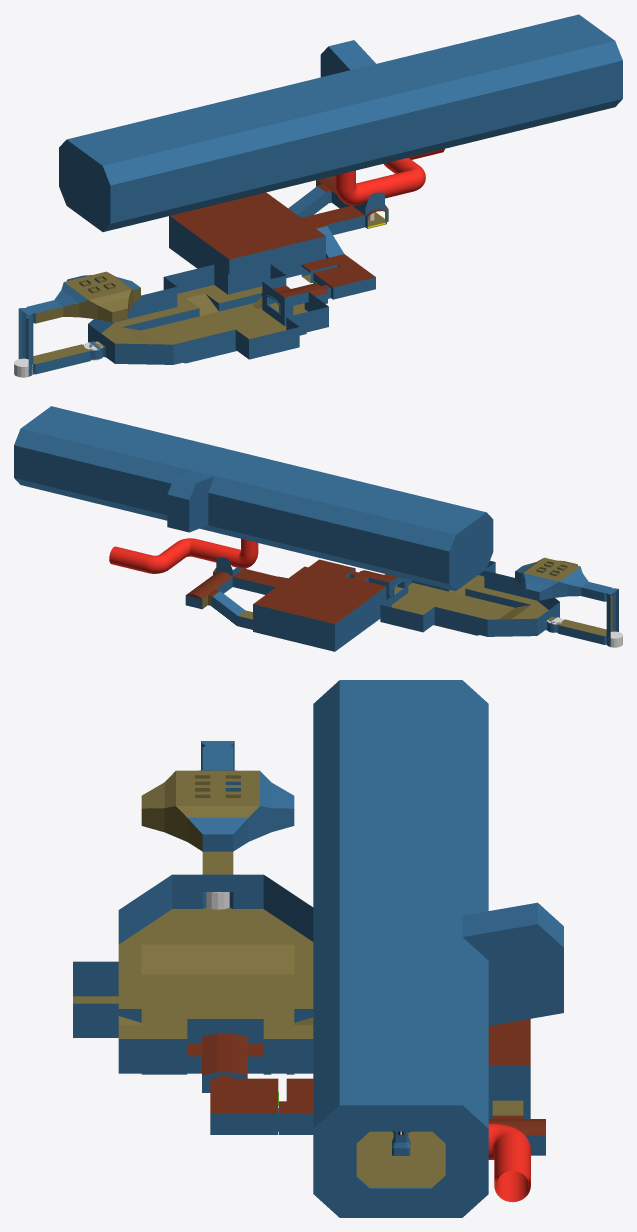
File: DemoArenaProt_01.fbx
3 renders of one model, top to bottom at view 1: azimuth 30°, elevation 25°; view 2: azimuth 150°, elevation 25°; view 3: azimuth 270°, elevation 25°, orthographic. The views are drawn at different scales.
Visible parts, largest first — view 1: PrisonHoler(ShadowCasterForEngine), FirstArena, Arena, ElevatorUpSection, EscapePipe, BottomTunel, SecurityRoom, ElevatorDownSection, LadderDown.001; view 2: PrisonHoler(ShadowCasterForEngine), FirstArena, Arena, ElevatorUpSection, EscapePipe, BottomTunel, ElevatorDownSection, LadderDown.001, SecurityRoom; view 3: PrisonHoler(ShadowCasterForEngine), FirstArena, ElevatorUpSection, SecurityRoom, PrisonBlock, Arena, EscapePipe, BottomTunel, ElevatorDownSection.
Boxes of the visible parts, bbox=[...] form: PrisonHoler(ShadowCasterForEngine): bbox=[59, 14, 622, 231]; FirstArena: bbox=[88, 264, 328, 364]; Arena: bbox=[169, 192, 325, 277]; ElevatorUpSection: bbox=[18, 271, 140, 345]; EscapePipe: bbox=[335, 149, 444, 205]; BottomTunel: bbox=[302, 175, 388, 234]; SecurityRoom: bbox=[301, 254, 375, 299]; ElevatorDownSection: bbox=[18, 338, 98, 376]; LadderDown.001: bbox=[288, 185, 327, 217]; PrisonHoler(ShadowCasterForEngine): bbox=[14, 406, 493, 590]; FirstArena: bbox=[353, 560, 559, 636]; Arena: bbox=[237, 566, 386, 651]; ElevatorUpSection: bbox=[515, 557, 618, 620]; EscapePipe: bbox=[109, 538, 258, 573]; BottomTunel: bbox=[185, 557, 286, 609]; ElevatorDownSection: bbox=[551, 614, 618, 646]; LadderDown.001: bbox=[211, 590, 244, 625]; SecurityRoom: bbox=[308, 559, 358, 578]; PrisonHoler(ShadowCasterForEngine): bbox=[313, 680, 563, 1217]; FirstArena: bbox=[73, 874, 313, 1092]; ElevatorUpSection: bbox=[141, 741, 294, 851]; SecurityRoom: bbox=[210, 1075, 313, 1134]; PrisonBlock: bbox=[356, 1131, 445, 1188]; Arena: bbox=[488, 1019, 530, 1118]; EscapePipe: bbox=[488, 1123, 530, 1202]; BottomTunel: bbox=[488, 1116, 545, 1155]; ElevatorDownSection: bbox=[202, 851, 233, 874].
Bounding box in the file's own units: 16352 × 4143 × 6435.
